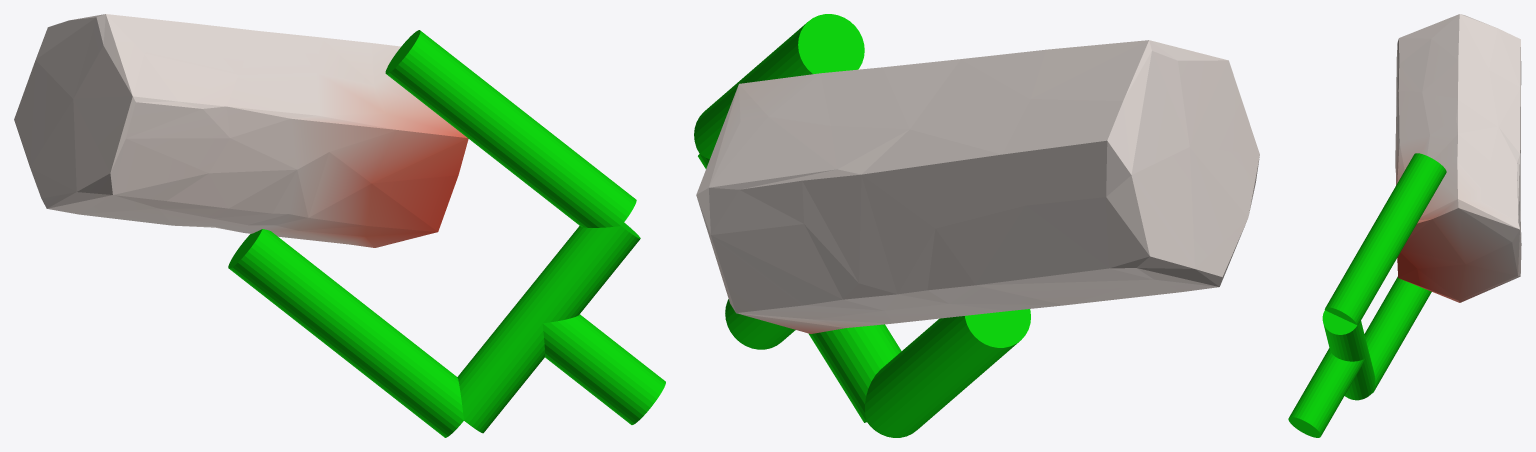
Rendered from round_000_trial_000.obj.
The picture shows the model from 3 angles, left to right: view 1: azimuth 30°, elevation 25°; view 2: azimuth 150°, elevation 25°; view 3: azimuth 270°, elevation 25°; orthographic projection. The views are drawn at different scales.
Parts seen in each view (by area): view 1: geometry_0, geometry_1; view 2: geometry_0, geometry_1; view 3: geometry_0, geometry_1.
Boxes of the visible parts, box(x1,y1,x2,y2) form: geometry_0: box(14, 14, 468, 247); geometry_1: box(228, 30, 665, 437); geometry_0: box(696, 40, 1259, 333); geometry_1: box(694, 14, 1030, 437); geometry_0: box(1395, 14, 1521, 302); geometry_1: box(1288, 153, 1446, 437).
Size of the model in its own units: 0.1052 by 0.086 by 0.0625.
